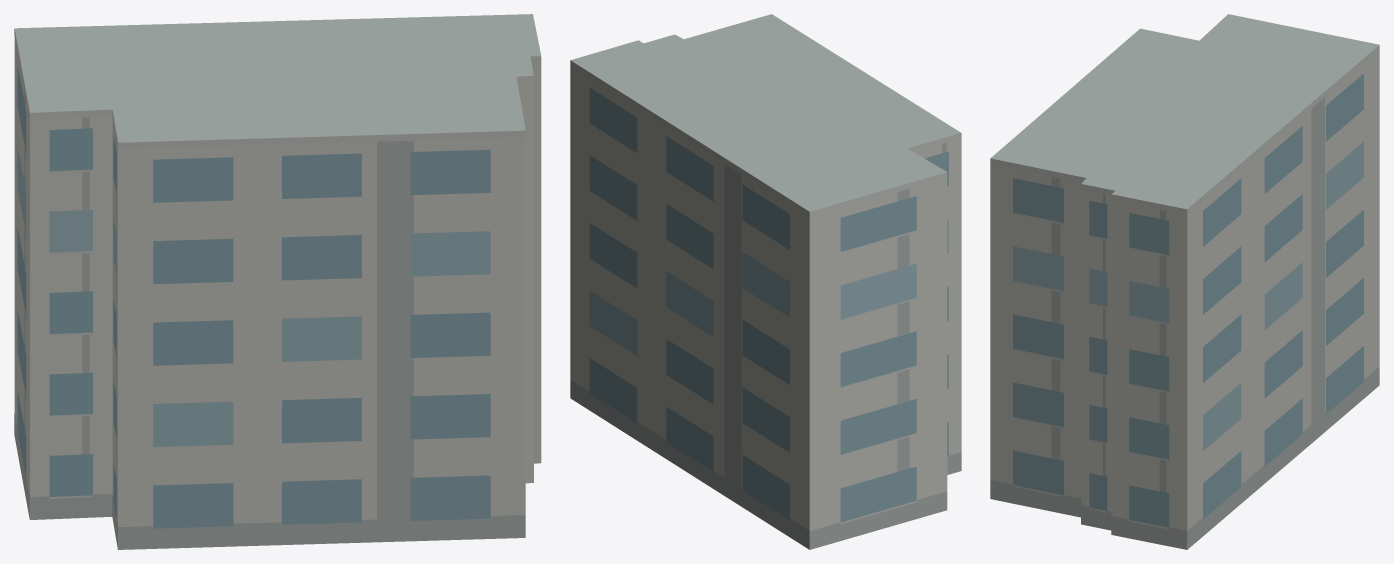
Rendered from survey-upis-32807918.glb.
The picture shows the model from 3 angles, left to right: view 1: azimuth 30°, elevation 25°; view 2: azimuth 150°, elevation 25°; view 3: azimuth 270°, elevation 25°; orthographic projection. The views are drawn at different scales.
Visible parts, largest first — view 1: survey-upis-32807918.tmp; view 2: survey-upis-32807918.tmp; view 3: survey-upis-32807918.tmp.
Part boxes in pixels (box(x1,y1,x2,y2)): survey-upis-32807918.tmp: box(14, 14, 541, 549); survey-upis-32807918.tmp: box(570, 14, 961, 549); survey-upis-32807918.tmp: box(990, 14, 1379, 549).
Size of the model in its own units: 17.84 by 14.5 by 15.03.
